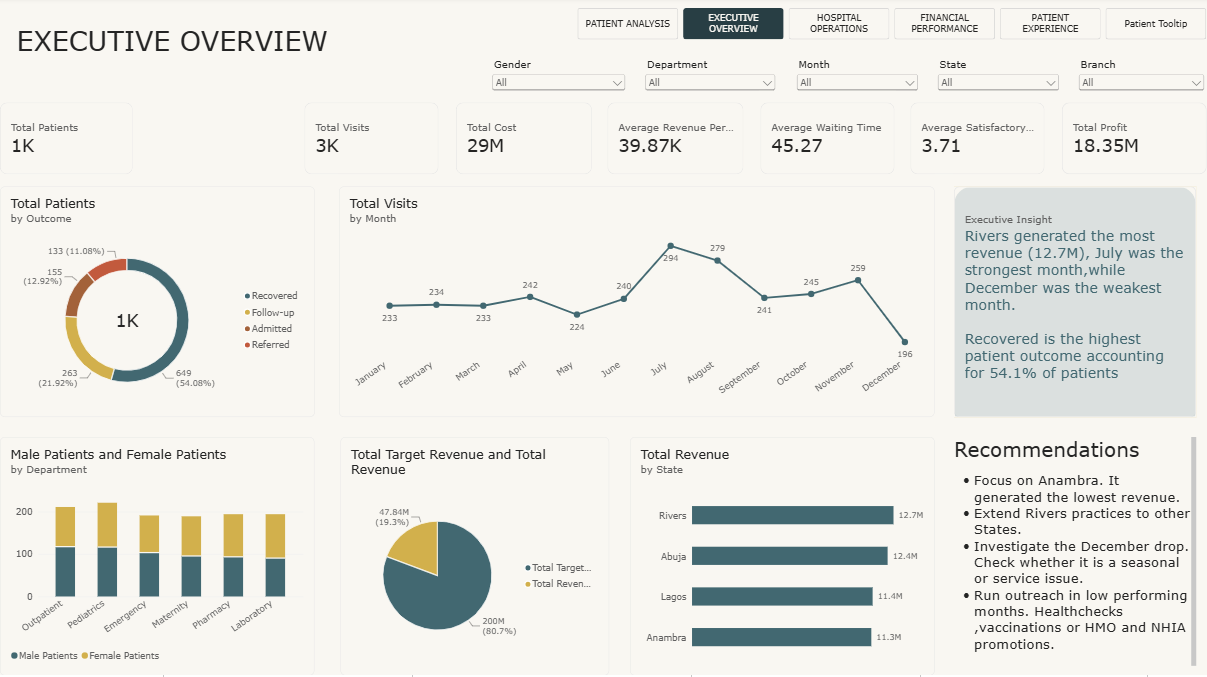

The dashboard page shown, as its layout file describes it:
{"tool":"powerbi","page":{"name":"EXECUTIVE OVERVIEW","canvas":[1920,1080],"ordinal":1},"visuals":[{"type":"textbox","box":[26.7,46.1,514.9,51],"z":0},{"type":"slicer","fields":{"Values":["Date_Table.Month"]},"box":[1262.1,97.8,202.8,52.5],"z":1000},{"type":"slicer","fields":{"Values":["Patient_Visits.State"]},"box":[1486.4,97.8,202.8,52.5],"z":2000},{"type":"slicer","fields":{"Values":["Patient_Visits.Branch"]},"box":[1710.7,97.8,210,52.5],"z":3000},{"type":"slicer","fields":{"Values":["Patient_Visits.Department"]},"box":[1021.2,97.8,217.1,52.5],"z":4000},{"type":"slicer","fields":{"Values":["Patient_Visits.Gender"]},"box":[777.8,97.8,221.9,54.9],"z":5000},{"type":"cardVisual","fields":{"Data":["Patient_Visits.Total Patients"]},"box":[0,169.4,211,114],"z":6000},{"type":"cardVisual","fields":{"Data":["Patient_Visits.Total Visits"]},"box":[483.3,170,213.7,114.2],"z":7000},{"type":"cardVisual","fields":{"Data":["Patient_Visits.Total Cost"]},"box":[726.2,170,216.2,114.2],"z":8000},{"type":"cardVisual","fields":{"Data":["Patient_Visits.Average Revenue Per Patient"]},"box":[966.7,170,216.2,114.2],"z":9000},{"type":"cardVisual","fields":{"Data":["Patient_Visits.Average Waiting Time"]},"box":[1209.6,170,213.7,114.2],"z":10000},{"type":"cardVisual","fields":{"Data":["Patient_Visits.Average Satisfactory Score"]},"box":[1447.6,170,213.7,114.2],"z":11000},{"type":"cardVisual","fields":{"Data":["Date_Table.Total Profit"]},"box":[1688,170,230.7,114.2],"z":12000},{"type":"lineChart","fields":{"Category":["Date_Table.Month"],"Y":["Patient_Visits.Total Visits"]},"box":[539.2,303.6,947.2,366.8],"z":13000},{"type":"clusteredBarChart","fields":{"Category":["Patient_Visits.State"],"Y":["Patient_Visits.Total Revenue"]},"box":[1002.1,701.5,484.3,379.4],"z":14000},{"type":"pieChart","fields":{"Y":["State_Targets.Total Target Revenue","Patient_Visits.Total Revenue"]},"box":[541.6,701.5,427.1,379.4],"z":15000},{"type":"donutChart","fields":{"Category":["Patient_Visits.Outcome"],"Y":["Patient_Visits.Total Patients"]},"box":[0,303.6,500.3,366.8],"z":16000},{"type":"pageNavigator","box":[918.6,19.1,1000,50],"z":17000},{"type":"cardVisual","fields":{"Data":["Date_Table.Executive Insight"]},"box":[1517.5,302.5,385,367.5],"z":18000},{"type":"textbox","box":[1517.5,702.5,385,377.5],"z":20000},{"type":"columnChart","fields":{"Category":["Patient_Visits.Department"],"Y":["Patient_Visits.Male Patients","Patient_Visits.Female Patients"]},"box":[0,701,500,379],"z":21000}]}

Visuals, with their boxes in screenshot pixels (x1, y1, x2, y2), scaled from the page's 1920x1080 canvas onto the 1207x677 screenshot:
textbox: (17, 29, 340, 61)
slicer - Date_Table.Month: (793, 61, 921, 94)
slicer - Patient_Visits.State: (934, 61, 1062, 94)
slicer - Patient_Visits.Branch: (1075, 61, 1206, 94)
slicer - Patient_Visits.Department: (642, 61, 778, 94)
slicer - Patient_Visits.Gender: (489, 61, 628, 96)
cardVisual - Patient_Visits.Total Patients: (0, 106, 133, 178)
cardVisual - Patient_Visits.Total Visits: (304, 107, 438, 178)
cardVisual - Patient_Visits.Total Cost: (457, 107, 592, 178)
cardVisual - Patient_Visits.Average Revenue Per Patient: (608, 107, 744, 178)
cardVisual - Patient_Visits.Average Waiting Time: (760, 107, 895, 178)
cardVisual - Patient_Visits.Average Satisfactory Score: (910, 107, 1044, 178)
cardVisual - Date_Table.Total Profit: (1061, 107, 1206, 178)
lineChart - Date_Table.Month x Patient_Visits.Total Visits: (339, 190, 934, 420)
clusteredBarChart - Patient_Visits.State x Patient_Visits.Total Revenue: (630, 440, 934, 676)
pieChart - State_Targets.Total Target Revenue x Patient_Visits.Total Revenue: (340, 440, 609, 676)
donutChart - Patient_Visits.Outcome x Patient_Visits.Total Patients: (0, 190, 315, 420)
pageNavigator: (577, 12, 1206, 43)
cardVisual - Date_Table.Executive Insight: (954, 190, 1196, 420)
textbox: (954, 440, 1196, 676)
columnChart - Patient_Visits.Department x Patient_Visits.Male Patients: (0, 439, 314, 676)
